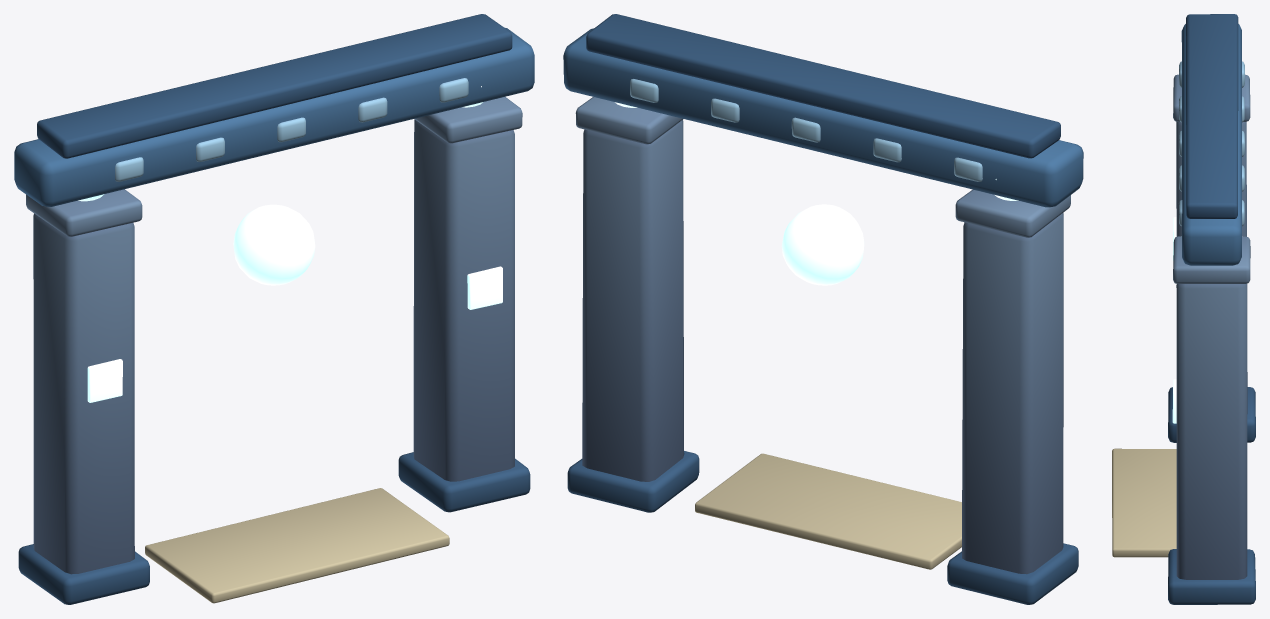
The picture shows the model from 3 angles, left to right: view 1: azimuth 30°, elevation 25°; view 2: azimuth 150°, elevation 25°; view 3: azimuth 270°, elevation 25°; orthographic projection. The views are drawn at different scales.
Parts seen in each view (by area): view 1: gate_365b9b08; view 2: gate_365b9b08; view 3: gate_365b9b08.
Part boxes in pixels (<box>): gate_365b9b08: <box>14,14,534,604</box>; gate_365b9b08: <box>563,14,1083,604</box>; gate_365b9b08: <box>1112,14,1255,604</box>.
Bounding box in the file's own units: 5 × 4.43 × 1.44.
